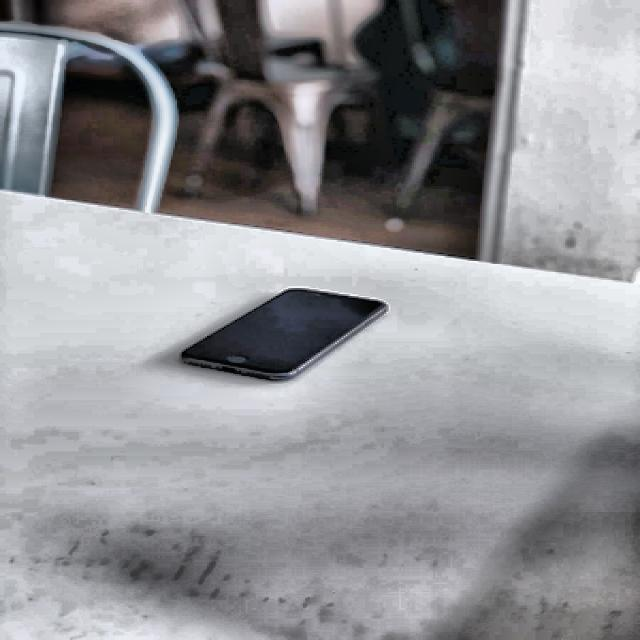Phone: (172, 284, 394, 386)
